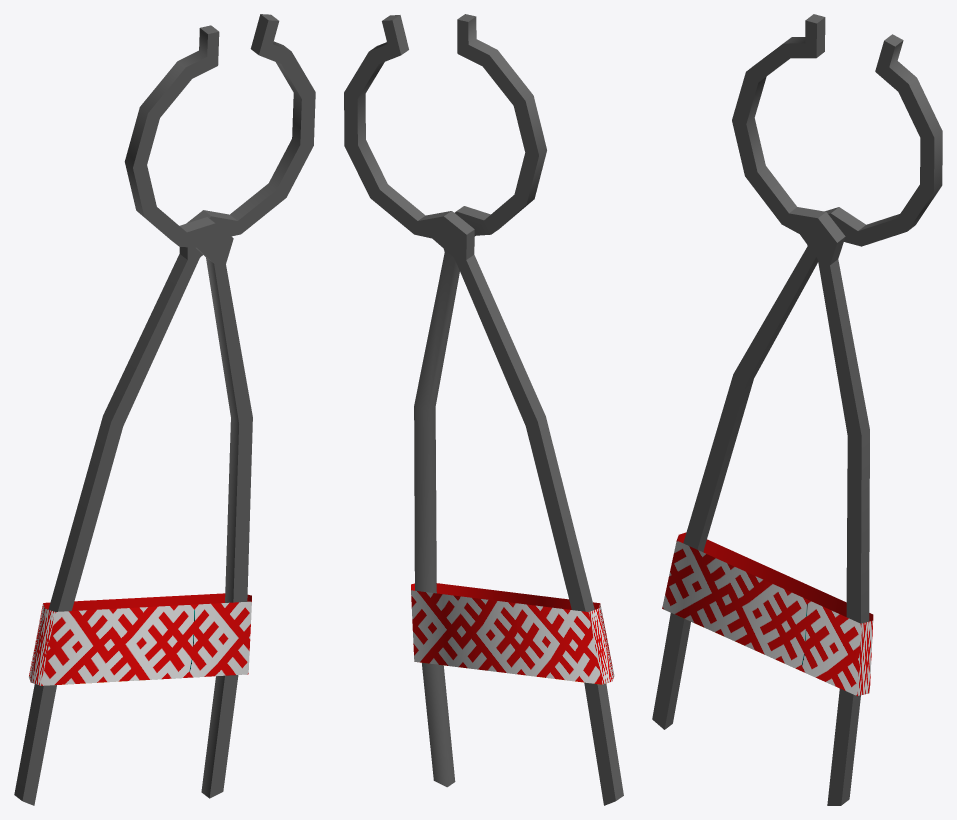
Rendered from PliersSlavs.fbx.
3 views of the same model, side by side, from view 1: azimuth 30°, elevation 25°; view 2: azimuth 150°, elevation 25°; view 3: azimuth 330°, elevation 25° (orthographic). The views are drawn at different scales.
Parts seen in each view (by area): view 1: pliers; view 2: pliers; view 3: pliers.
Part boxes in pixels (x1,y1,x2,y2): pliers: (14,14,315,805); pliers: (344,14,623,805); pliers: (652,14,942,805).
Size of the model in its own units: 25.25 by 65.6 by 3.98.
